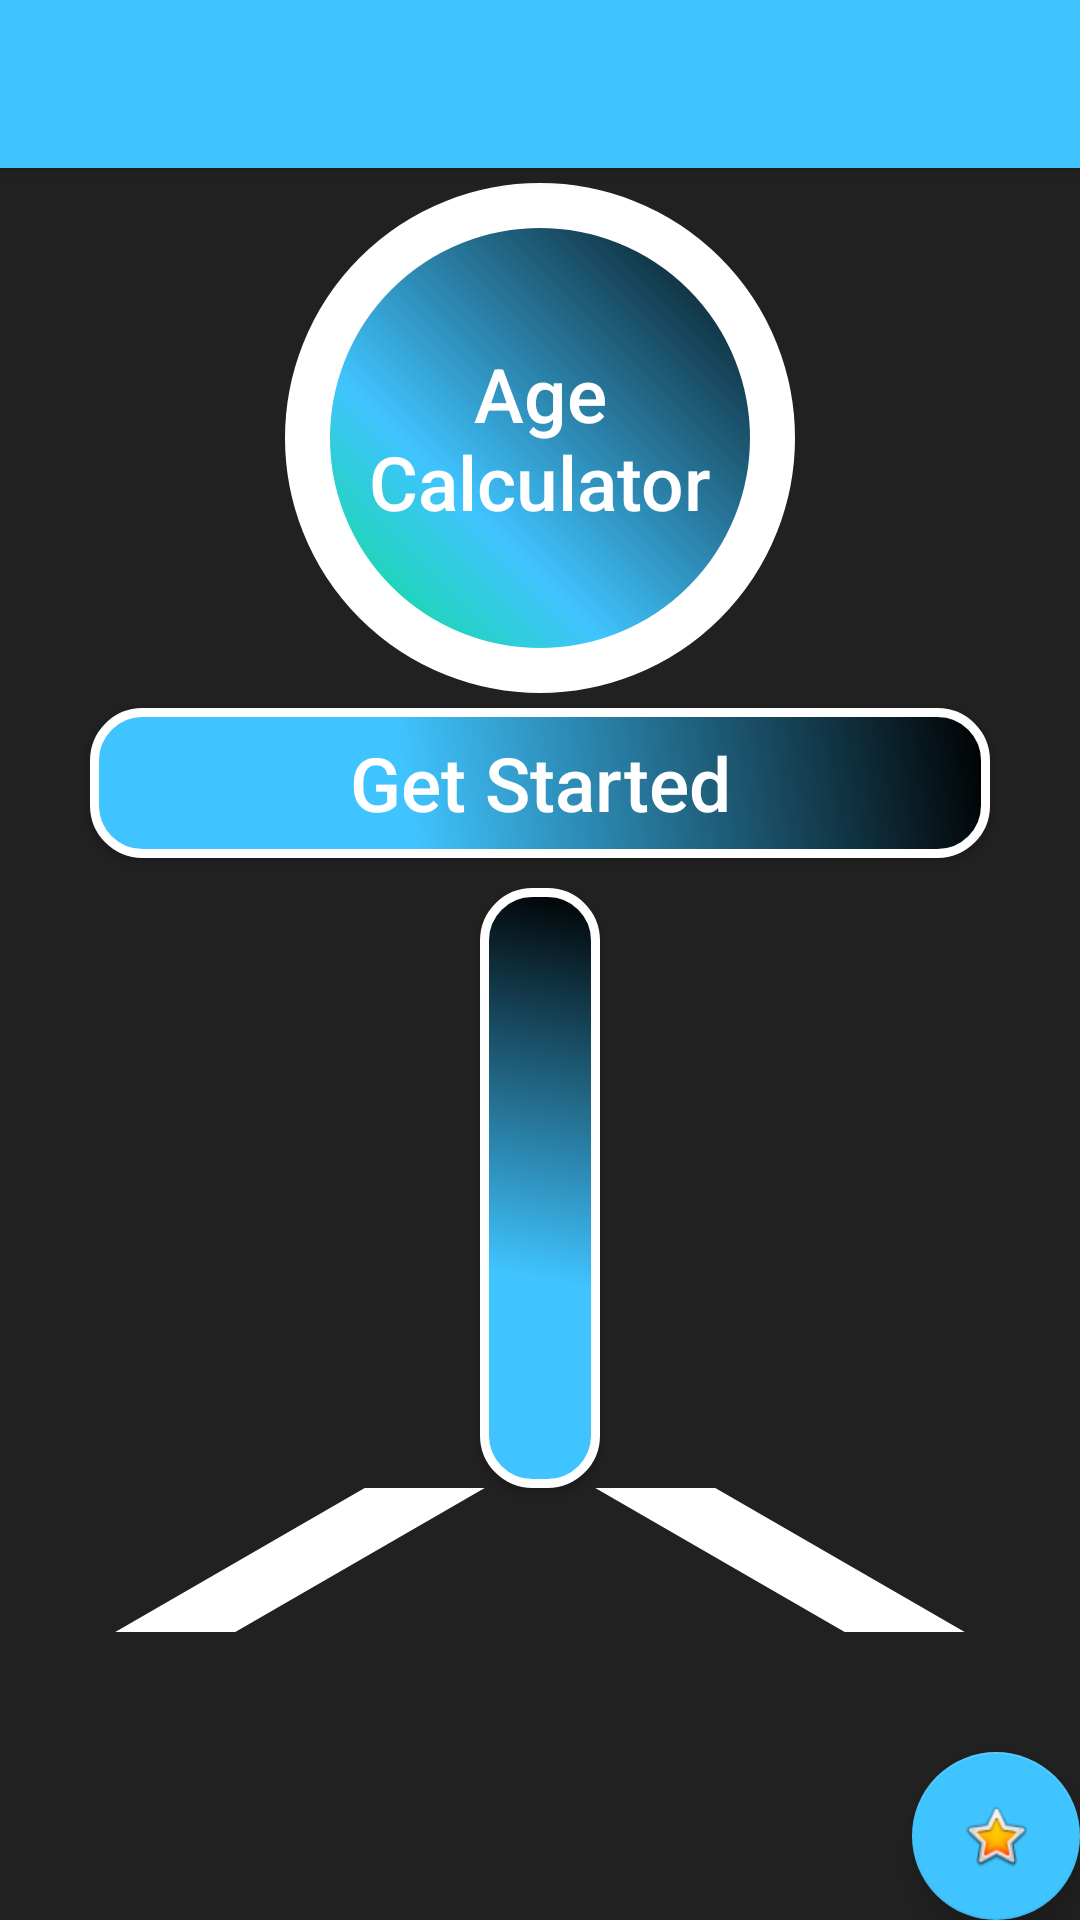

Icons on this 1080 x 1920 Android screen, each with the point to tap as (x=x, y=y):
star on: (x=996, y=1836)
